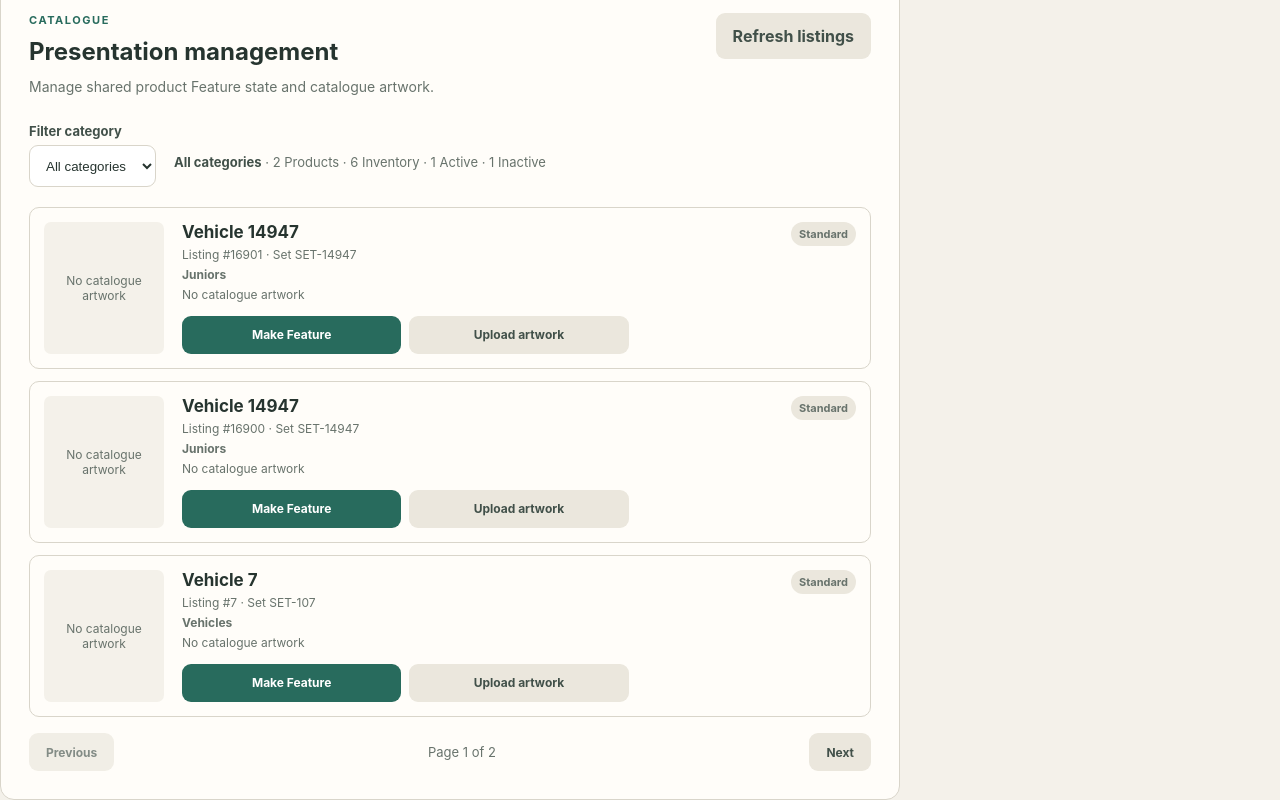
Test: CataloguePresentation › sorts missing artwork first, newest-first within both groups, and keeps filtering by dynamic category ID
The image size is (1280, 800).
(page scrolled)
Expected: the text "Listing #16901 · Set SET-14947" is shown, 182,247 -> 357,262
Click the button "Next" at (840, 752), box 809,733 -> 871,771
(page scrolled)
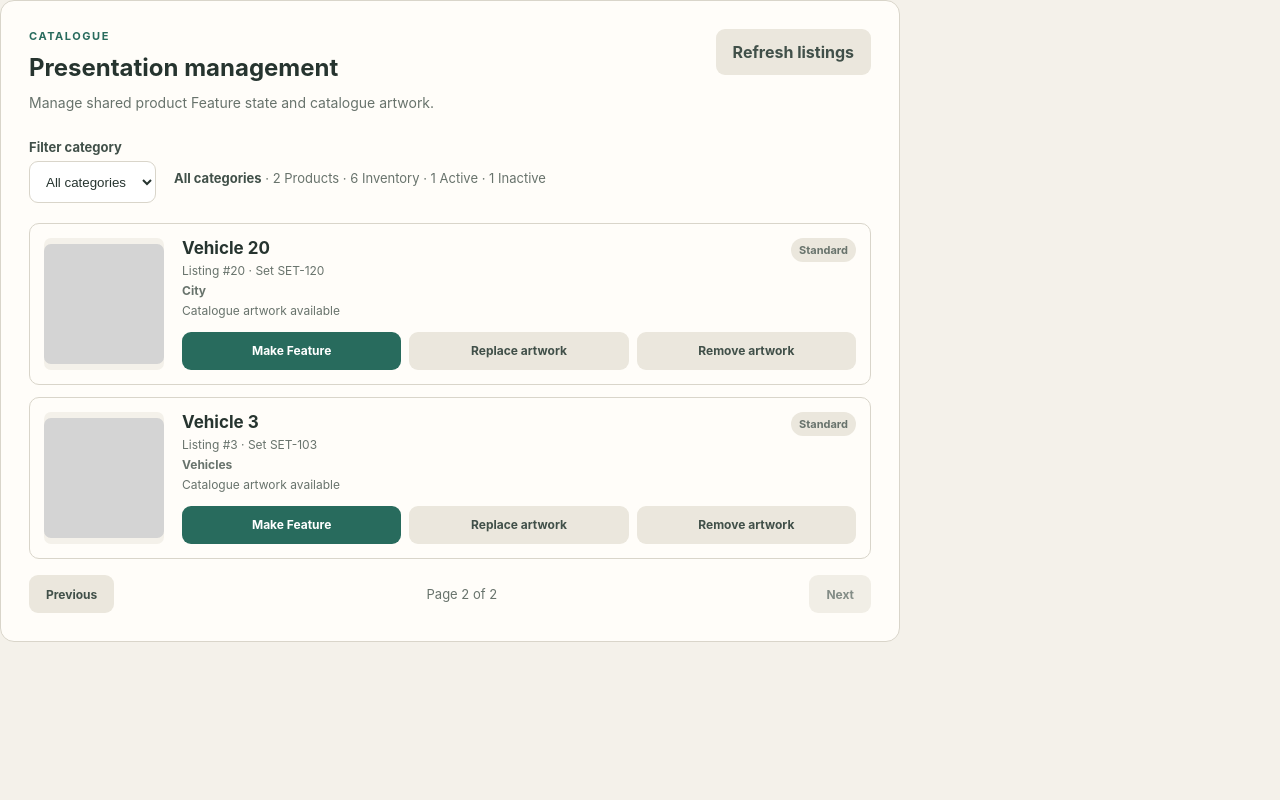
Select "Juniors" in the dropdown named "Presentation category" at (92, 182), box 29,161 -> 156,203
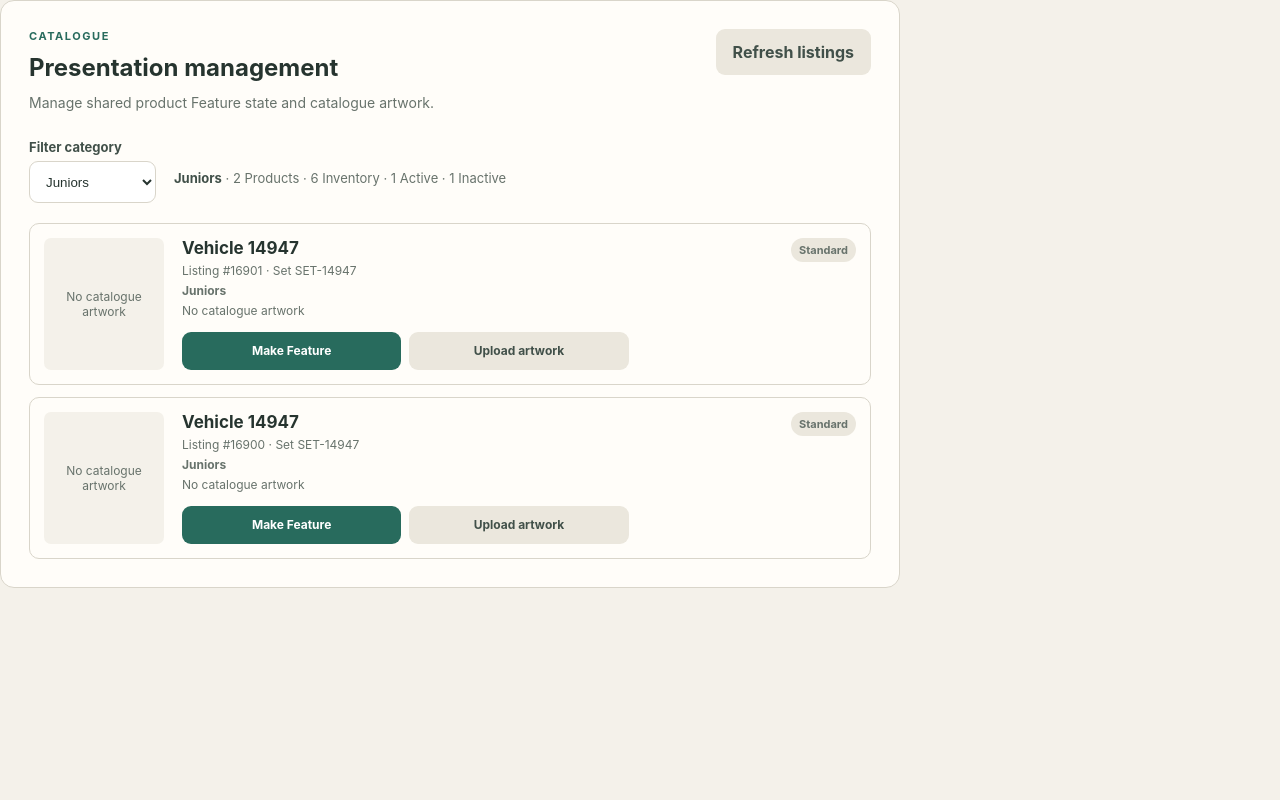
Result: the heading "Vehicle 20" is gone
